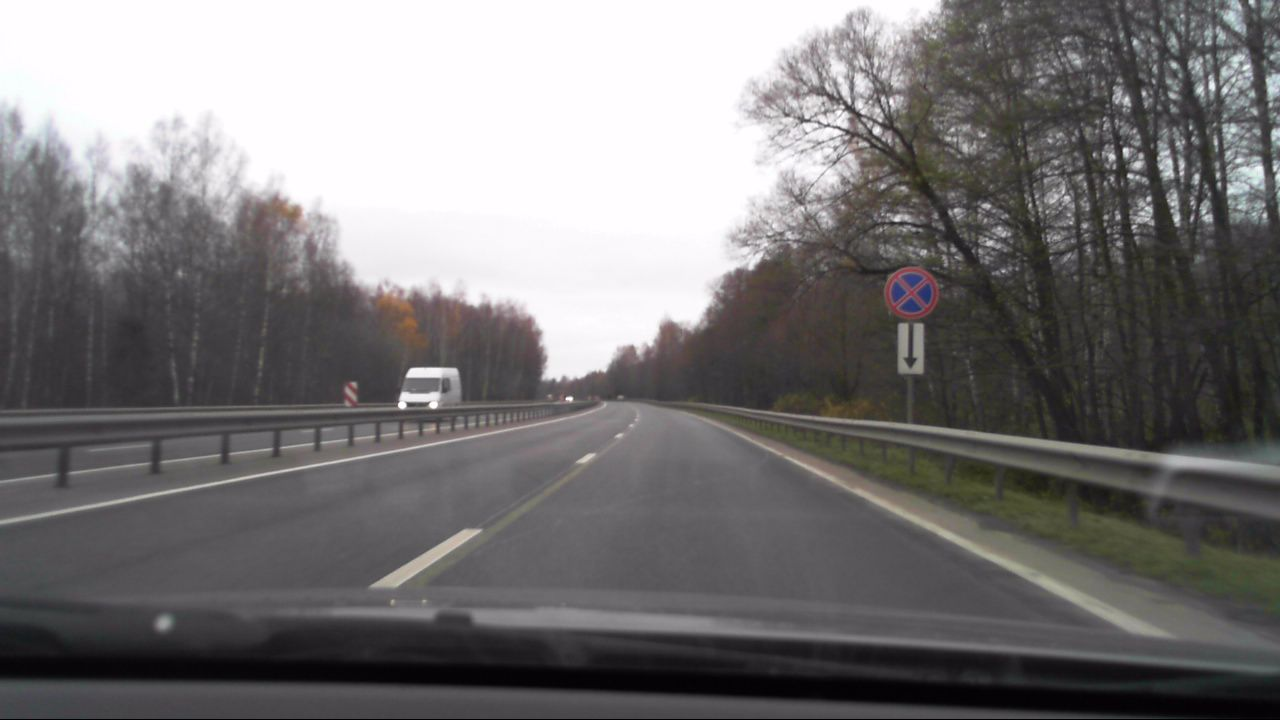No Parking: (884, 265, 937, 321)
